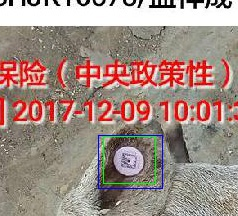text: (103, 136, 155, 183)
